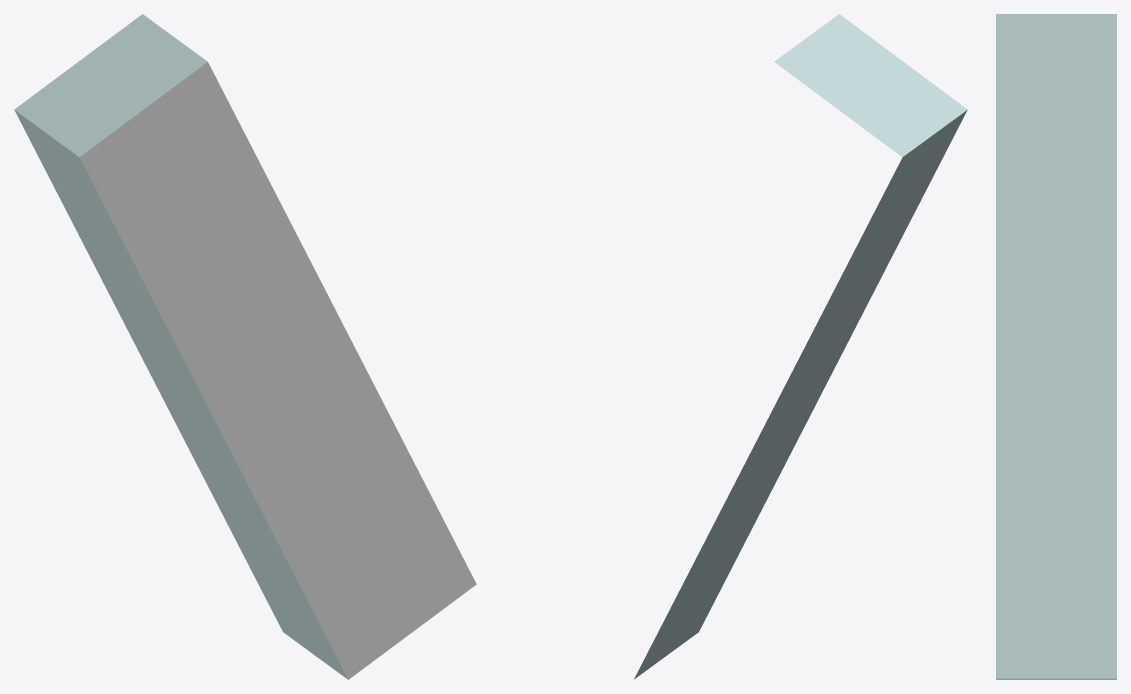
The picture shows the model from 3 angles, left to right: view 1: azimuth 30°, elevation 25°; view 2: azimuth 150°, elevation 25°; view 3: azimuth 270°, elevation 25°; orthographic projection. The views are drawn at different scales.
Visible parts, largest first — view 1: 0_1_1_3_2_1_2_0_1; view 2: 0_1_1_3_2_1_2_0_1; view 3: 0_1_1_3_2_1_2_0_1.
Part boxes in pixels (box(x1,y1,x2,y2)): 0_1_1_3_2_1_2_0_1: box(14, 14, 476, 679); 0_1_1_3_2_1_2_0_1: box(634, 14, 967, 679); 0_1_1_3_2_1_2_0_1: box(996, 14, 1116, 679).
Bounding box in the file's own units: 10.54 × 16.53 × 3.
